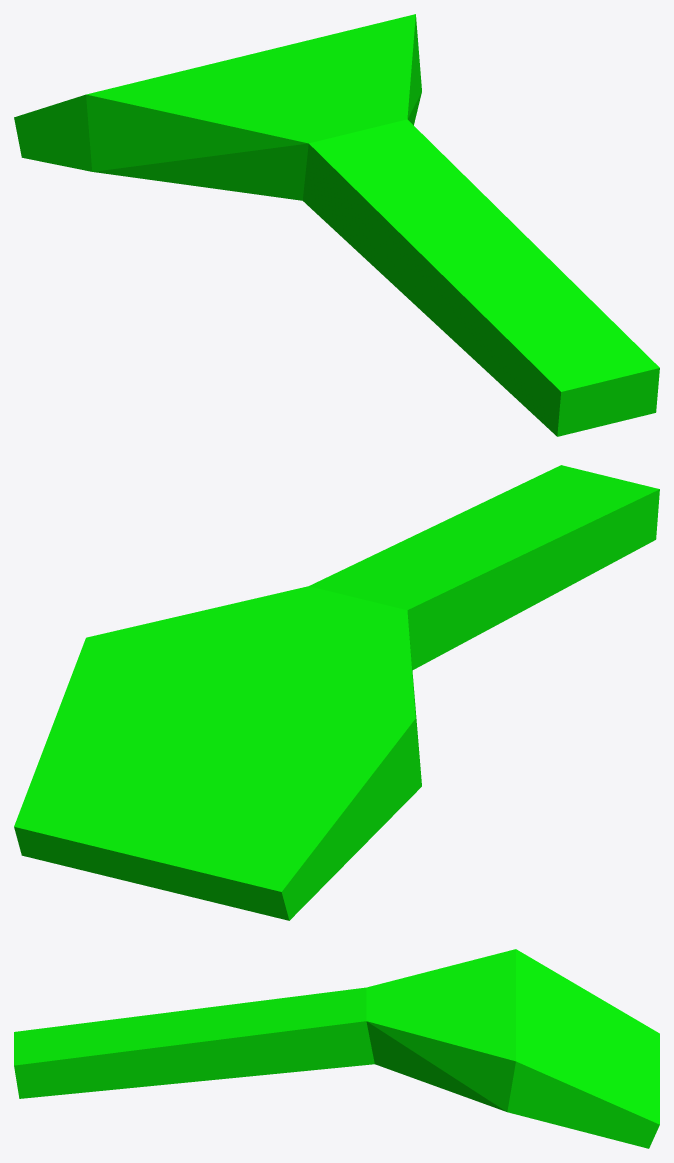
File: SM_KitchenTool_05_Collider.fbx
The picture shows the model from 3 angles, top to bottom: view 1: azimuth 30°, elevation 25°; view 2: azimuth 150°, elevation 25°; view 3: azimuth 270°, elevation 25°; orthographic projection. The views are drawn at different scales.
Visible parts, largest first — view 1: SM_KitchenTool_05_Collider; view 2: SM_KitchenTool_05_Collider; view 3: SM_KitchenTool_05_Collider.
Part boxes in pixels (box(x1,y1,x2,y2)): SM_KitchenTool_05_Collider: box(14, 14, 659, 436); SM_KitchenTool_05_Collider: box(14, 465, 659, 920); SM_KitchenTool_05_Collider: box(14, 949, 659, 1148).
Bounding box in the file's own units: 10.07 × 4.14 × 24.48.
